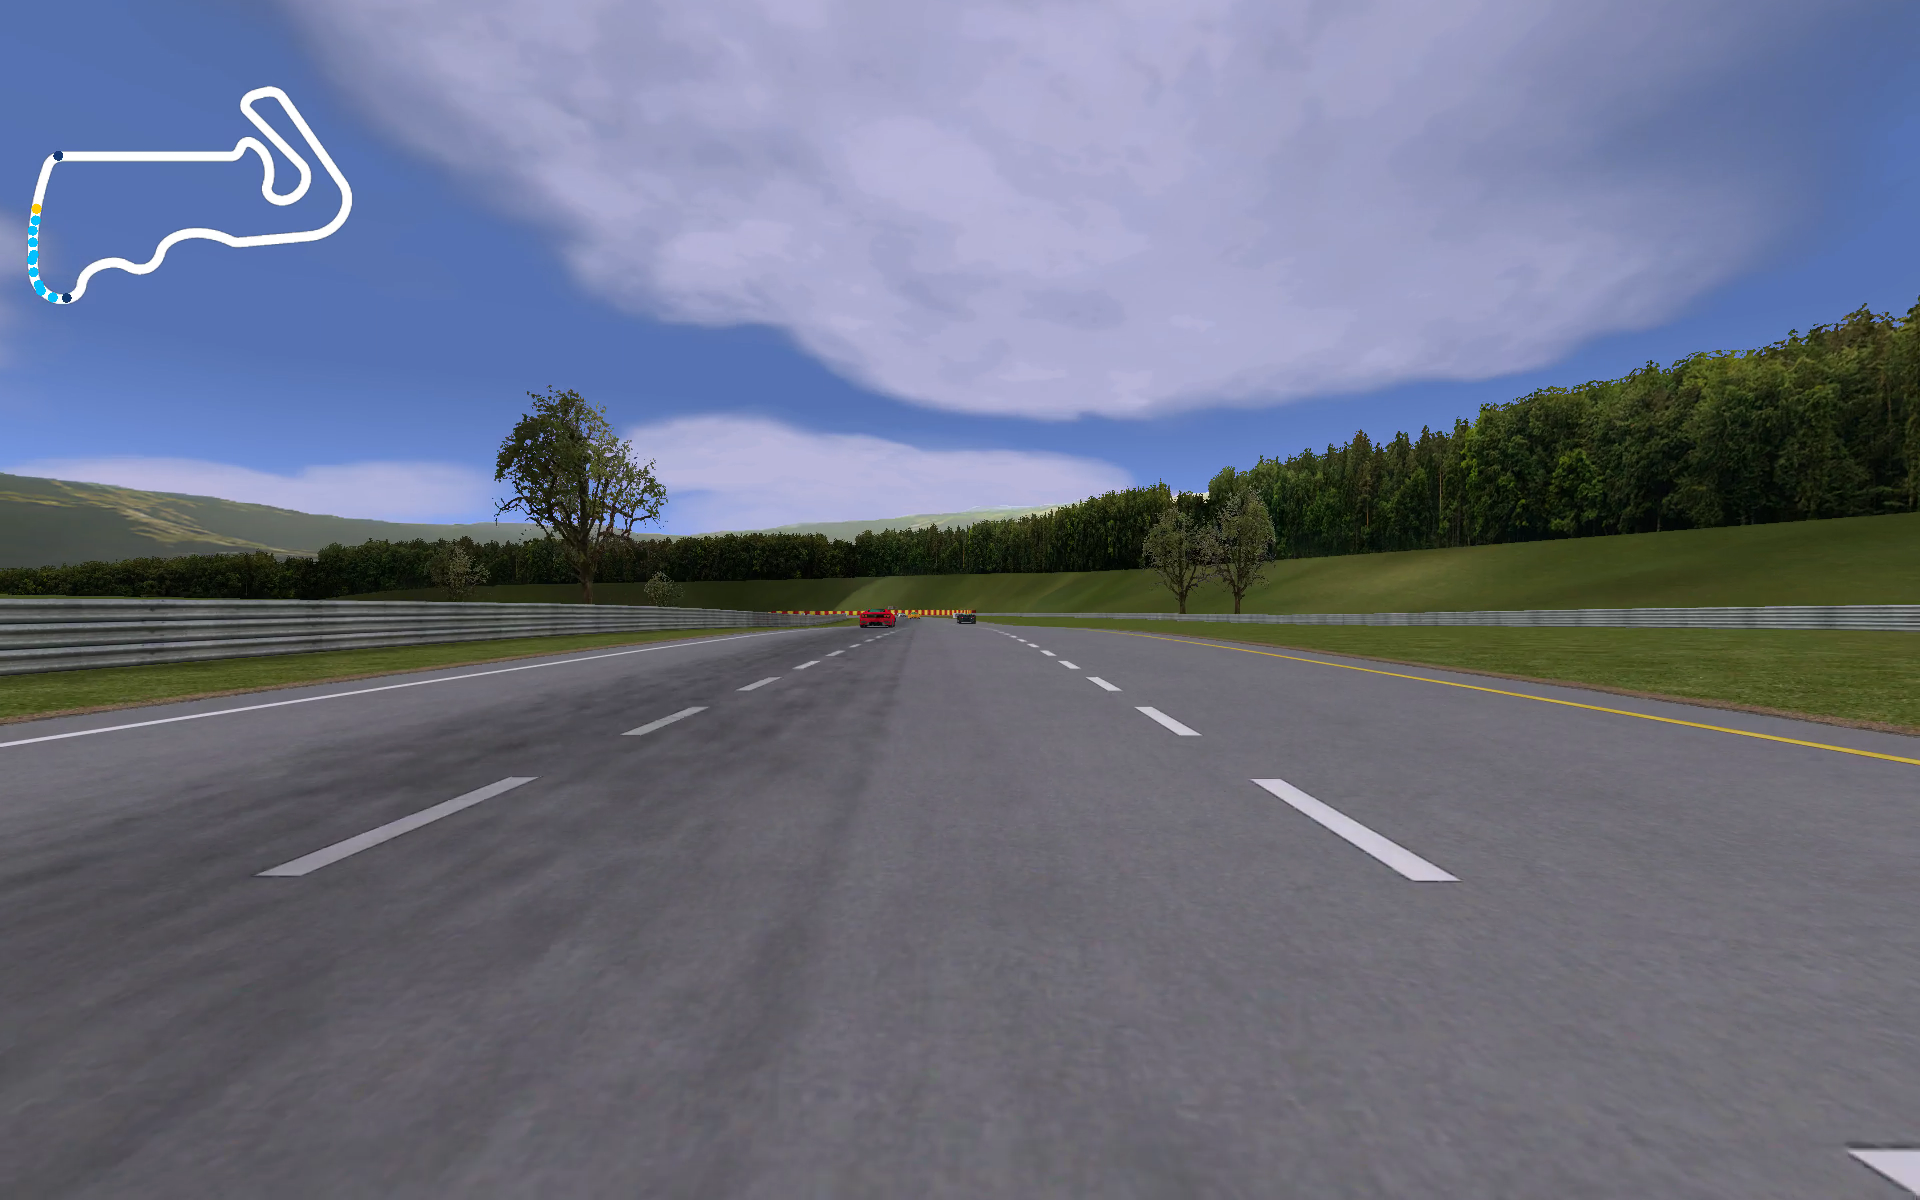car: (856, 606, 901, 632)
